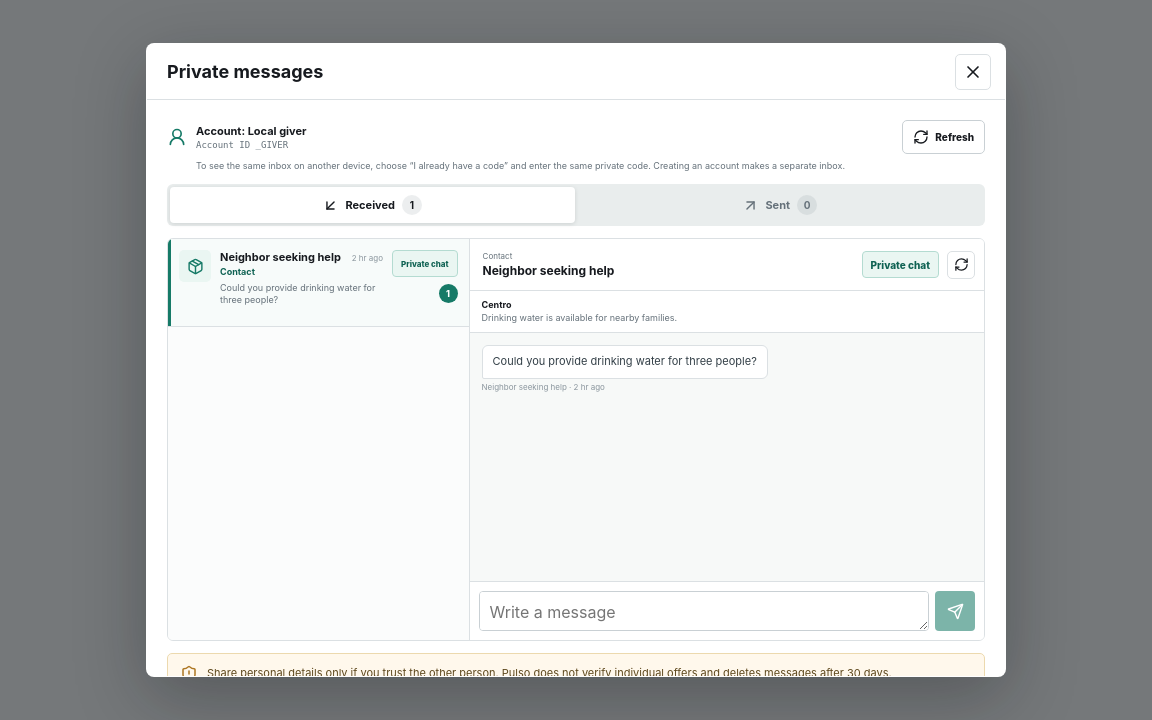
Test case: private conversations › opens a giver conversation immediately and sends a reply
expect the text "Could you provide drinking water for three people?" is shown 2 times: met, box [220, 282, 383, 307]; [482, 345, 768, 379]
Type "Yes, I can arrange a pickup point." into the text box labelled "Write a message".
click(704, 611); type("Yes, I can arrange a pickup point.")  # box [479, 591, 929, 631]
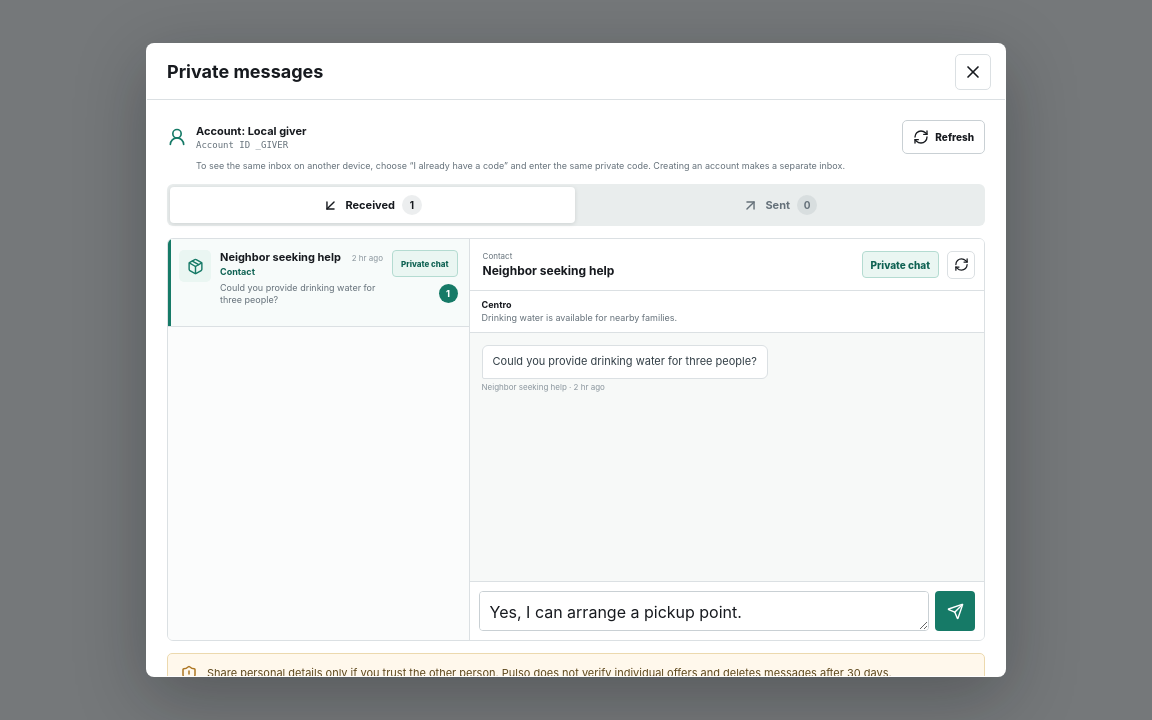
Click the button named "Send message".
click(955, 611)  # box [935, 591, 975, 631]
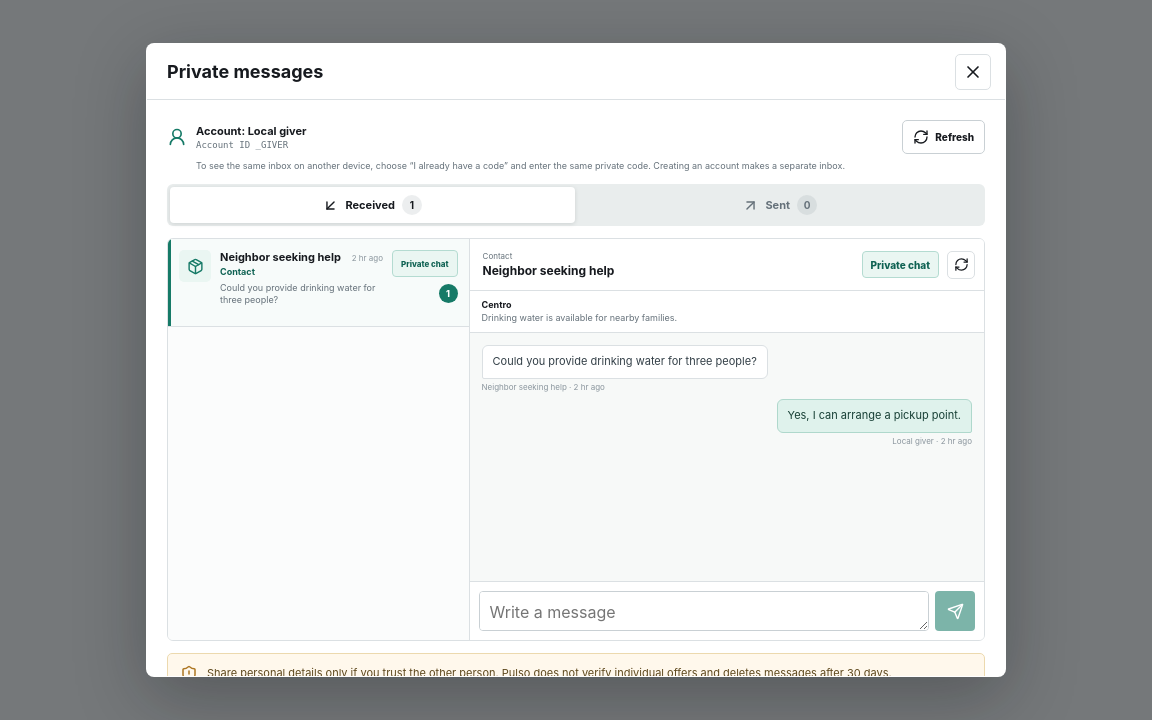
expect the text "Yes, I can arrange a pickup point." is shown: met, box [776, 399, 972, 433]
